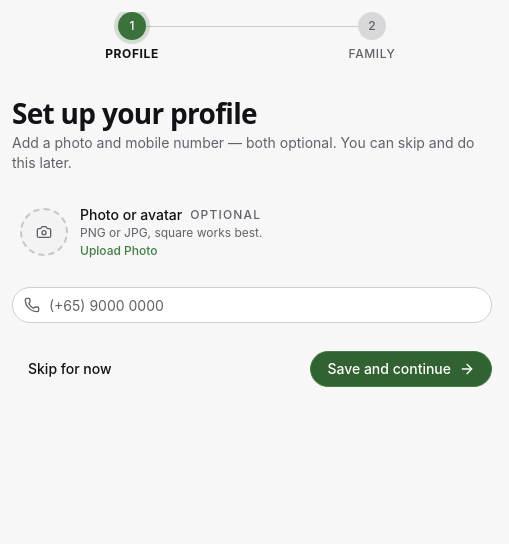
OnboardStepFamily — navigation (full wizard) › surfaces an error and stays on Family when completion is not retryable
Click the button "Skip for now". click: (70, 369)
box: x1=12 y1=351 x2=128 y2=387
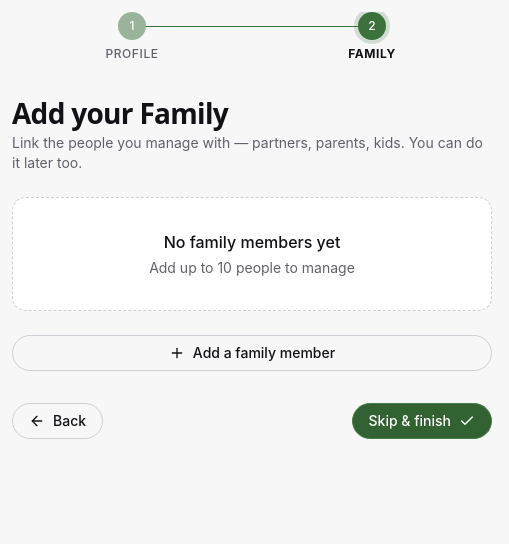
Expected: the heading "Add your Family" is shown, x1=12 y1=94 x2=228 y2=132
Click the button "Skip & finish". click: (422, 421)
box: x1=352 y1=403 x2=492 y2=439
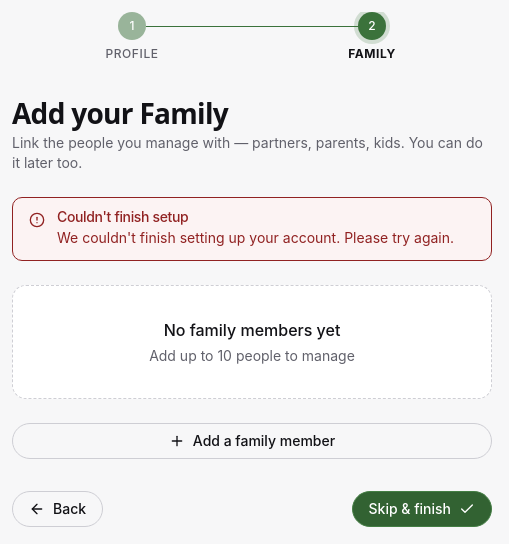
Expected: the heading "Add your Family" is shown, x1=12 y1=94 x2=228 y2=132
Expected: the message shows "Couldn't finish setup", x1=57 y1=208 x2=188 y2=225
